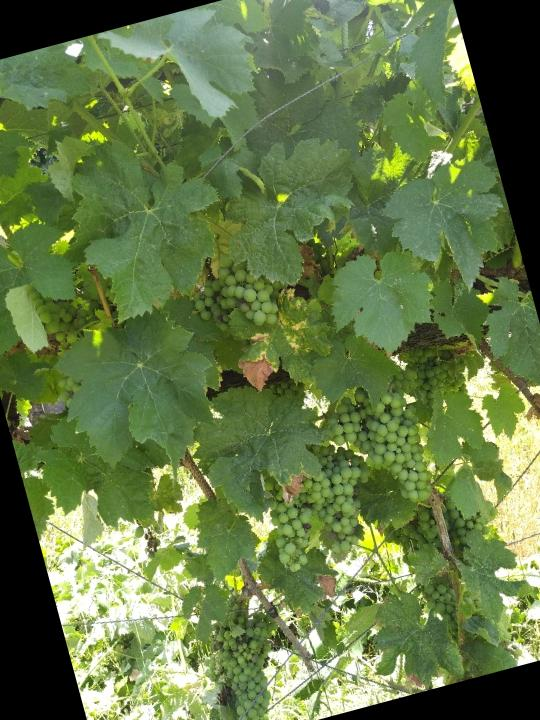grape: (316, 366, 451, 522), (284, 429, 388, 562), (203, 599, 307, 720), (182, 238, 294, 345), (256, 465, 328, 577)
